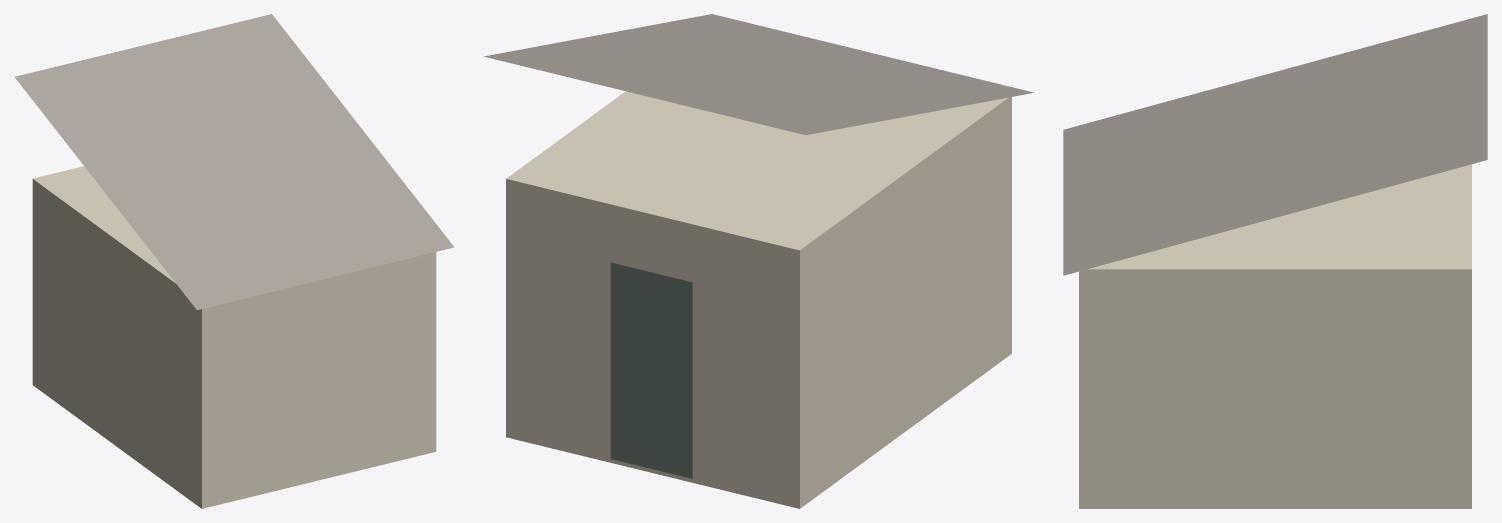
The model's file is recon_1835_north_a5_011__recommended_1835.glb.
3 renders of one model, left to right at view 1: azimuth 30°, elevation 25°; view 2: azimuth 150°, elevation 25°; view 3: azimuth 270°, elevation 25°, orthographic. The views are drawn at different scales.
Parts seen in each view (by area): view 1: recon_1835_north_a5_011__recommended_1835; view 2: recon_1835_north_a5_011__recommended_1835; view 3: recon_1835_north_a5_011__recommended_1835.
Boxes of the visible parts, box(x1,y1,x2,y2) form: recon_1835_north_a5_011__recommended_1835: box(14, 14, 454, 508); recon_1835_north_a5_011__recommended_1835: box(484, 14, 1033, 508); recon_1835_north_a5_011__recommended_1835: box(1063, 14, 1487, 508).
Bounding box in the file's own units: 2.68 × 3.04 × 3.29.
